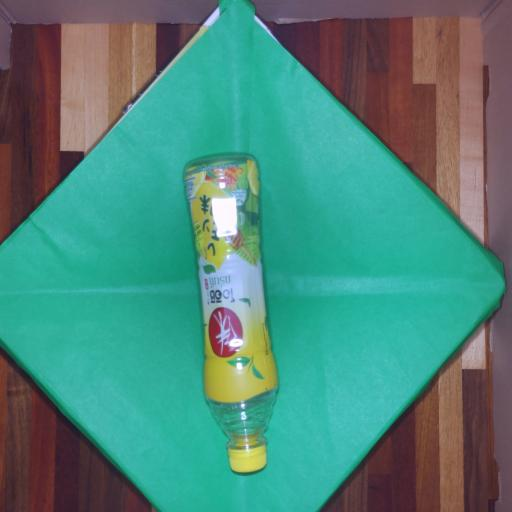bottle: (180, 146, 284, 478)
